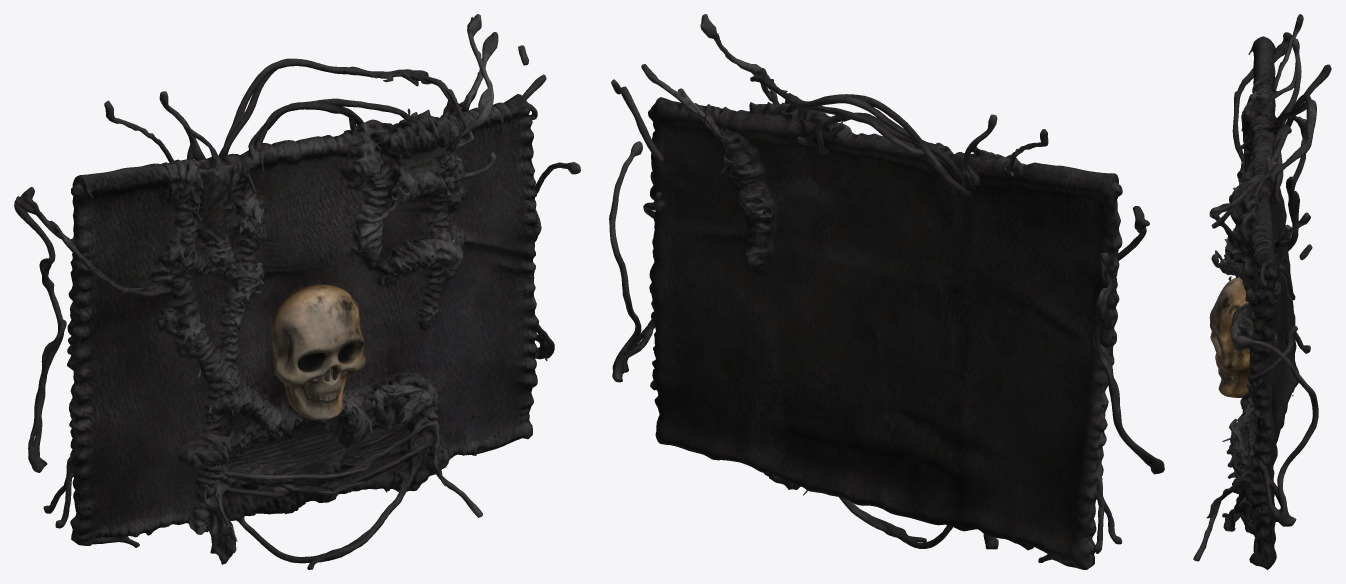
File: denim_scrap.glb
The picture shows the model from 3 angles, left to right: view 1: azimuth 30°, elevation 25°; view 2: azimuth 150°, elevation 25°; view 3: azimuth 270°, elevation 25°; orthographic projection. The views are drawn at different scales.
Parts seen in each view (by area): view 1: world; view 2: world; view 3: world.
Boxes of the visible parts, box(x1,y1,x2,y2) form: world: box(14, 14, 580, 569); world: box(609, 14, 1164, 569); world: box(1193, 14, 1331, 569).
Size of the model in its own units: 1 by 0.8757 by 0.2472.
1 material, 1 textured.
